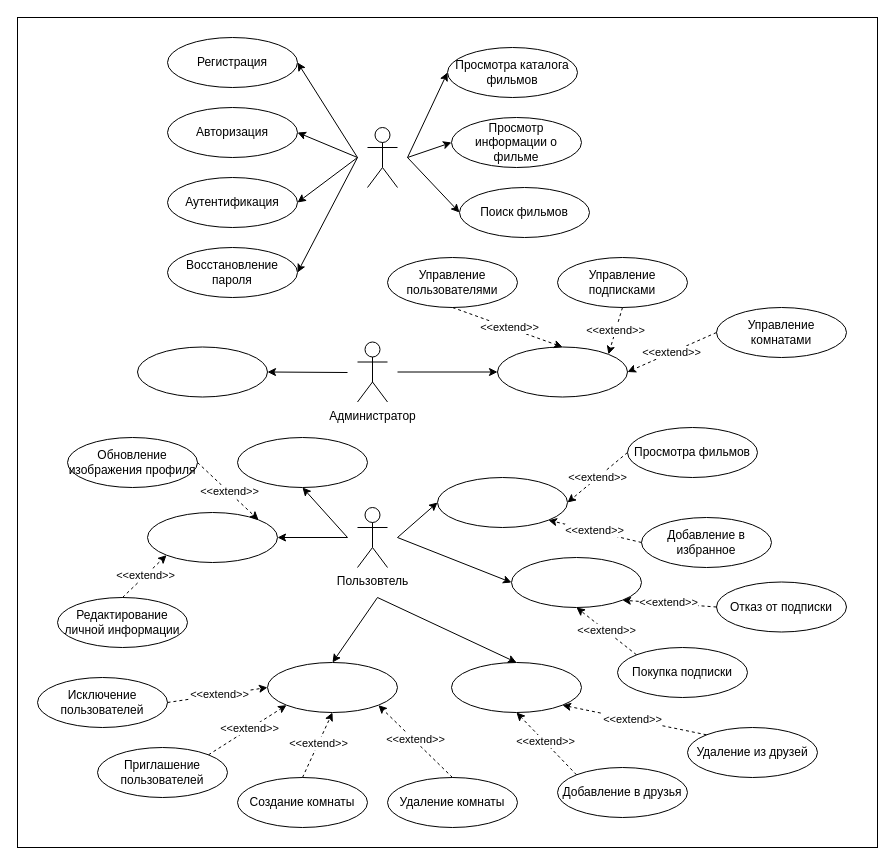
This 895x865 diagram has some shape labels left out. Here are the shapes that lost their labels. From the top down, the centre of each, then its label:
At point (382, 157): "Гость".
At point (202, 371): "Добавление фильмов".
At point (562, 371): "Управление системой".
At point (302, 462): "Написание сообщения в чат".
At point (502, 502): "Управление фильмами".
At point (212, 537): "Управление профилем".
At point (576, 582): "Управление подпиской".
At point (332, 687): "Управление комнатой".
At point (516, 687): "Управление друзьями".
